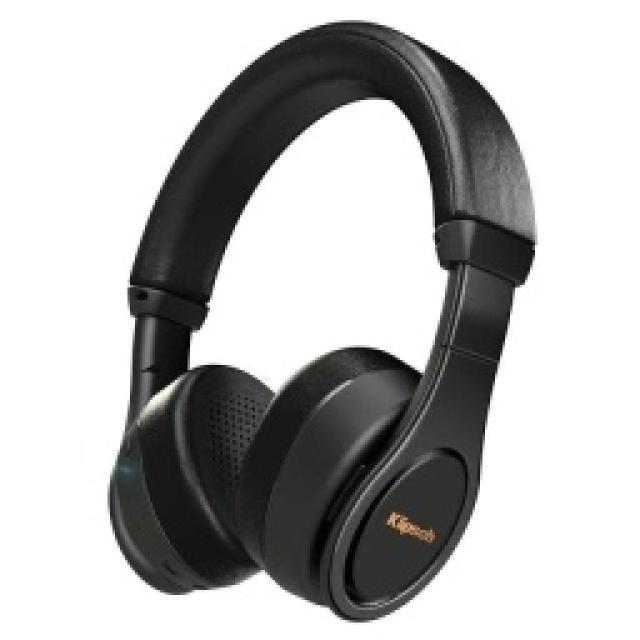headphones: (105, 18, 537, 620)
